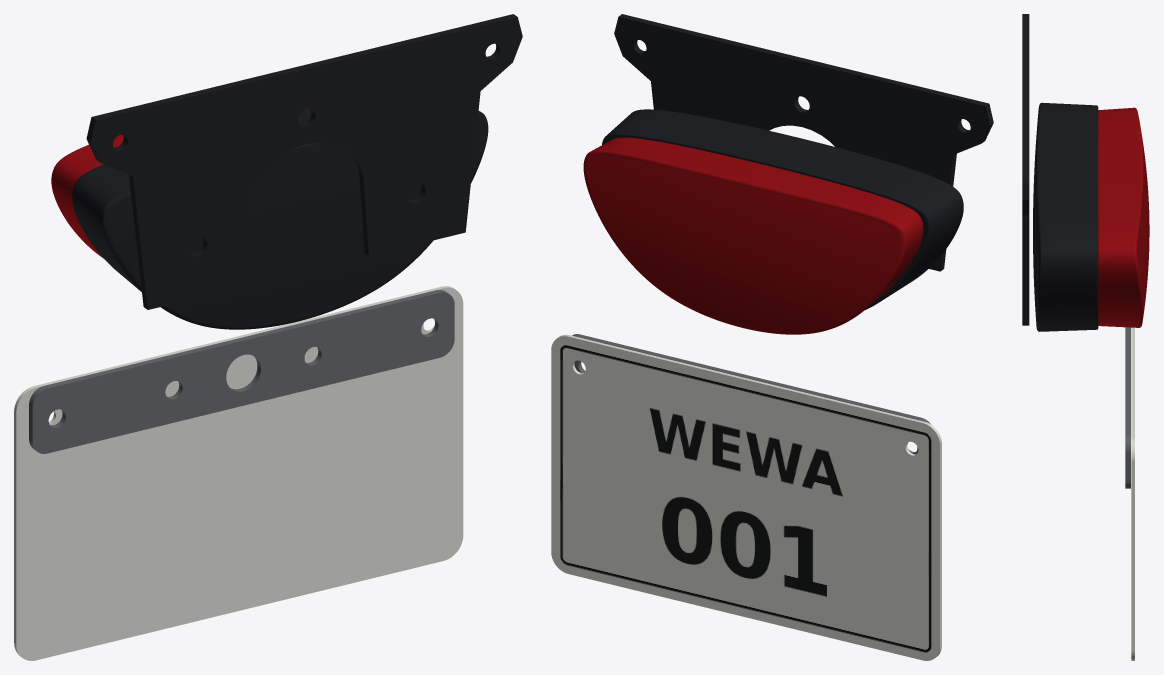
The model's file is rear-cluster-review-v1.glb.
3 views of the same model, side by side, from view 1: azimuth 30°, elevation 25°; view 2: azimuth 150°, elevation 25°; view 3: azimuth 270°, elevation 25° (orthographic). The views are drawn at different scales.
Parts seen in each view (by area): view 1: MOTO-LICENSE-PLATE-WEWA-001, MOTO-TAIL-LAMP-UPPER-BRACKET-001, MOTO-TAIL-LAMP-BLACK-HOUSING-001, MOTO-REAR-PLATE-CARRIER-CROSSBAR-001, MOTO-TAIL-LAMP-OUTER-LENS-001; view 2: MOTO-LICENSE-PLATE-WEWA-001, MOTO-TAIL-LAMP-OUTER-LENS-001, MOTO-TAIL-LAMP-UPPER-BRACKET-001, MOTO-TAIL-LAMP-BLACK-HOUSING-001, MOTO-REAR-PLATE-CARRIER-CROSSBAR-001; view 3: MOTO-TAIL-LAMP-BLACK-HOUSING-001, MOTO-TAIL-LAMP-OUTER-LENS-001, MOTO-TAIL-LAMP-UPPER-BRACKET-001, MOTO-LICENSE-PLATE-WEWA-001, MOTO-REAR-PLATE-CARRIER-CROSSBAR-001.
Part boxes in pixels (<box>): MOTO-LICENSE-PLATE-WEWA-001: <box>14,286,463,660</box>; MOTO-TAIL-LAMP-UPPER-BRACKET-001: <box>86,14,522,309</box>; MOTO-TAIL-LAMP-BLACK-HOUSING-001: <box>72,108,488,329</box>; MOTO-REAR-PLATE-CARRIER-CROSSBAR-001: <box>29,290,454,453</box>; MOTO-TAIL-LAMP-OUTER-LENS-001: <box>51,108,307,258</box>; MOTO-LICENSE-PLATE-WEWA-001: <box>551,334,941,660</box>; MOTO-TAIL-LAMP-OUTER-LENS-001: <box>583,137,923,334</box>; MOTO-TAIL-LAMP-UPPER-BRACKET-001: <box>614,14,993,271</box>; MOTO-TAIL-LAMP-BLACK-HOUSING-001: <box>602,109,963,309</box>; MOTO-REAR-PLATE-CARRIER-CROSSBAR-001: <box>572,334,930,454</box>; MOTO-TAIL-LAMP-BLACK-HOUSING-001: <box>1033,102,1098,331</box>; MOTO-TAIL-LAMP-OUTER-LENS-001: <box>1098,107,1149,327</box>; MOTO-TAIL-LAMP-UPPER-BRACKET-001: <box>1022,14,1029,325</box>; MOTO-LICENSE-PLATE-WEWA-001: <box>1131,327,1134,660</box>; MOTO-REAR-PLATE-CARRIER-CROSSBAR-001: <box>1125,327,1130,488</box>.
Bounding box in the file's own units: 0.18 × 0.2275 × 0.0545.
6 materials, 1 textured.
